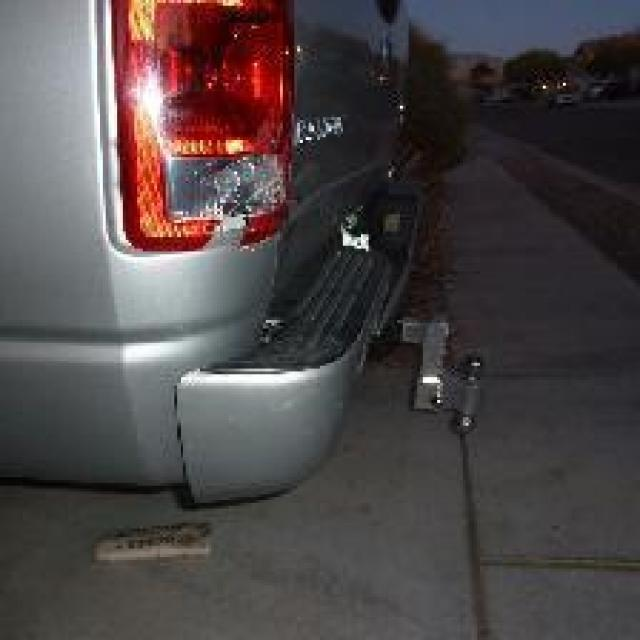damaged: (186, 140, 306, 317)
